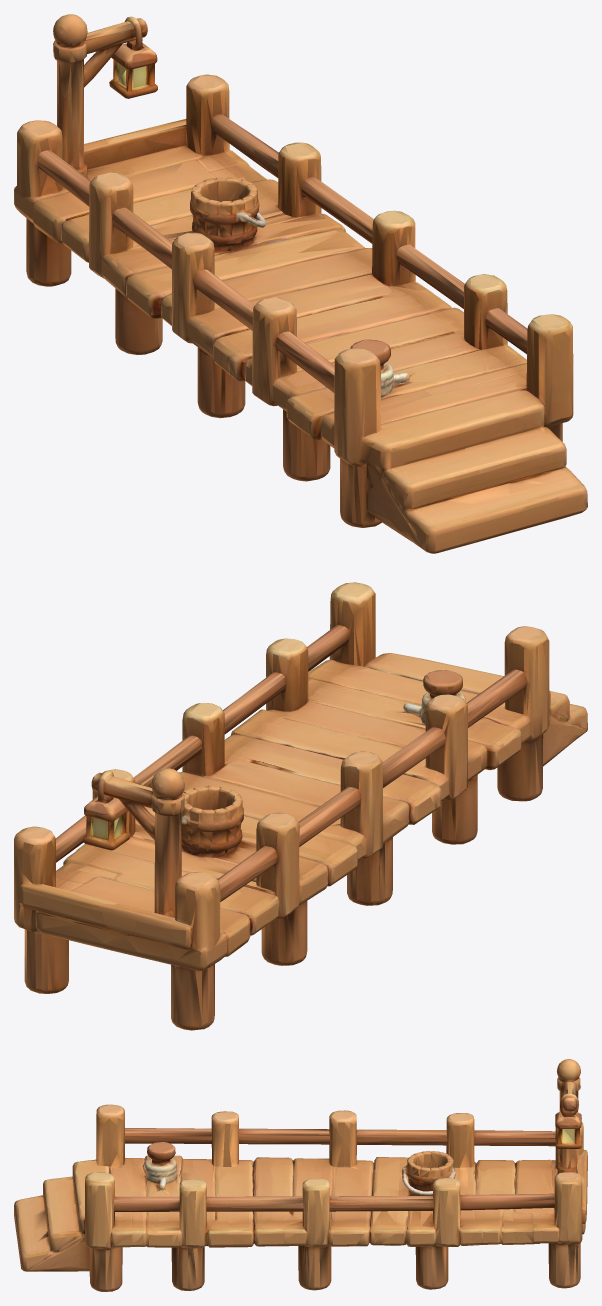
3 views of the same model, one above another, from view 1: azimuth 30°, elevation 25°; view 2: azimuth 150°, elevation 25°; view 3: azimuth 270°, elevation 25° (orthographic). The views are drawn at different scales.
Visible parts, largest first — view 1: F02-fishing-pier; view 2: F02-fishing-pier; view 3: F02-fishing-pier.
Boxes of the visible parts, box(x1,y1,x2,y2) form: F02-fishing-pier: box(14, 14, 587, 553); F02-fishing-pier: box(14, 582, 587, 1030); F02-fishing-pier: box(14, 1059, 587, 1291).
Bounding box in the file's own units: 2.03 × 2.2 × 6.36.
Materials: 1 (1 with a texture image).
